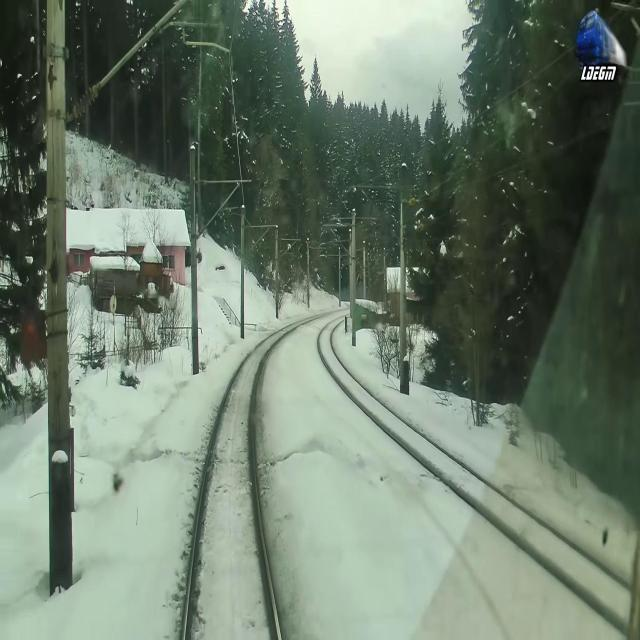rail-track: (319, 319, 640, 635), (187, 329, 286, 639)
